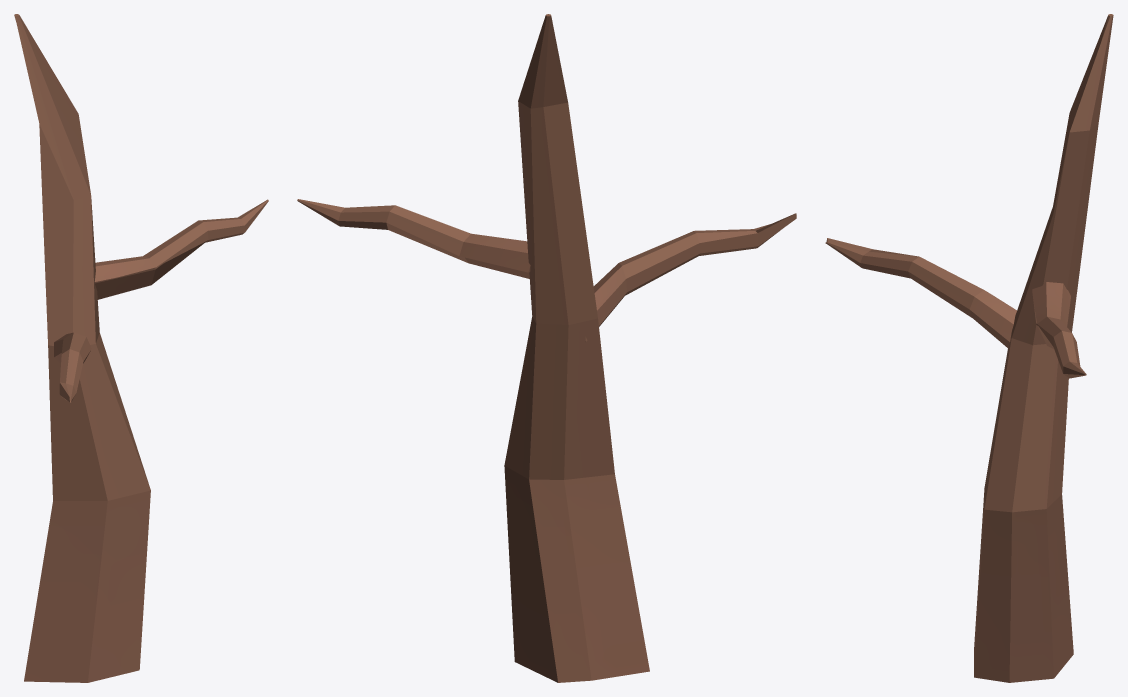
File: Tree_dry.fbx
The picture shows the model from 3 angles, left to right: view 1: azimuth 30°, elevation 25°; view 2: azimuth 150°, elevation 25°; view 3: azimuth 270°, elevation 25°; orthographic projection. The views are drawn at different scales.
Parts seen in each view (by area): view 1: Tree_dry; view 2: Tree_dry; view 3: Tree_dry.
Boxes of the visible parts, x1,y1,x2,y2 form: Tree_dry: [14, 14, 268, 682]; Tree_dry: [297, 14, 796, 682]; Tree_dry: [825, 14, 1113, 682].
Size of the model in its own units: 332 by 605 by 249.
